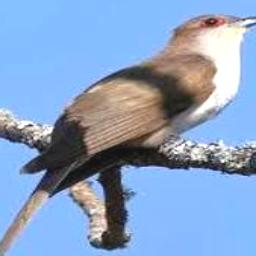Cuckoo: (0, 14, 256, 256)
